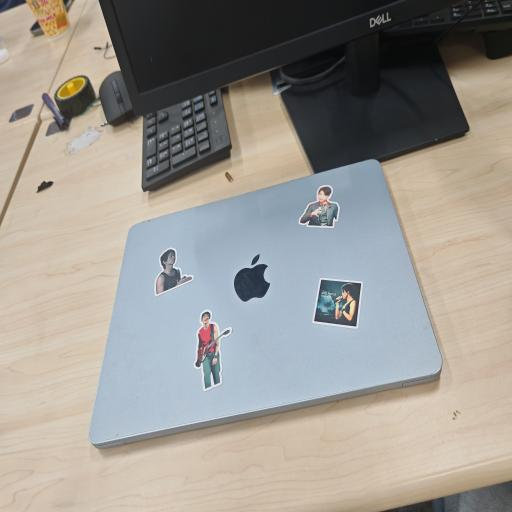laptop: (89, 160, 442, 448)
mouse: (99, 71, 135, 125)
